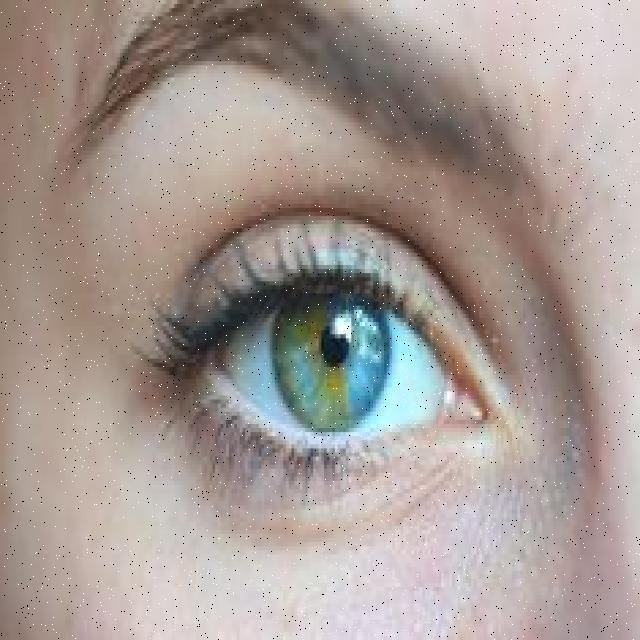Normal: (129, 200, 543, 513)
